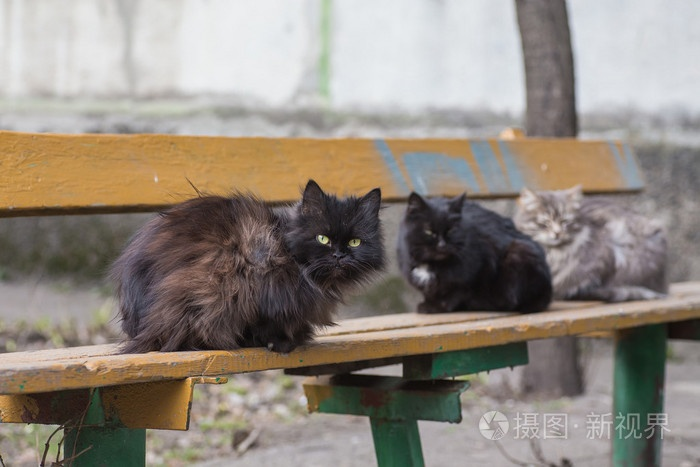cat: (113, 177, 385, 356), (396, 191, 553, 315), (516, 184, 667, 303)
